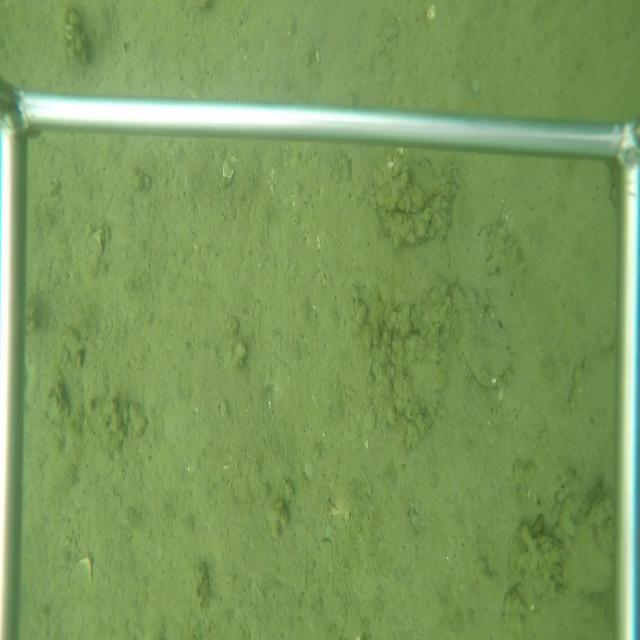Oyster-Indeterminate: (450, 278, 519, 393)
